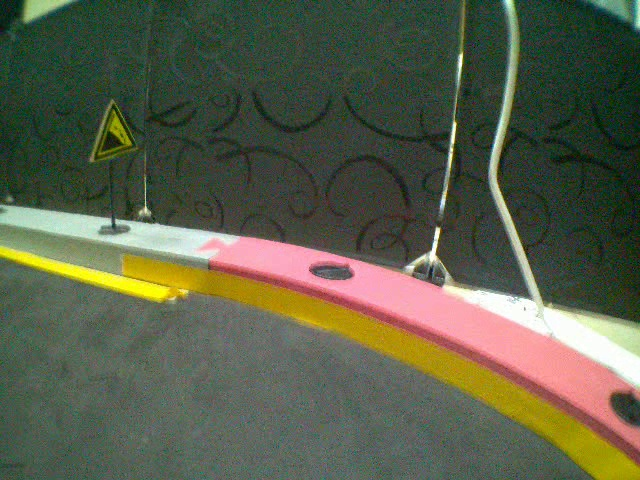fast: (85, 98, 146, 165)
